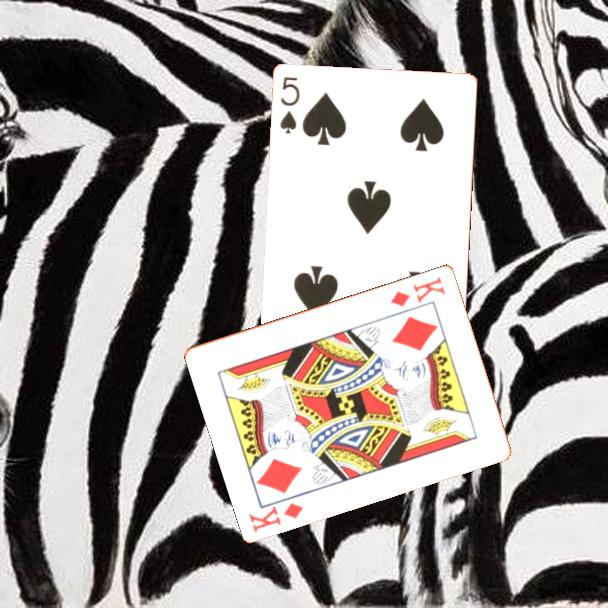d13: (387, 272, 449, 309), (245, 499, 307, 535)
s05: (277, 74, 303, 137)
